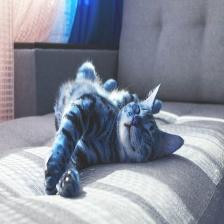kedo: (44, 61, 183, 198)
